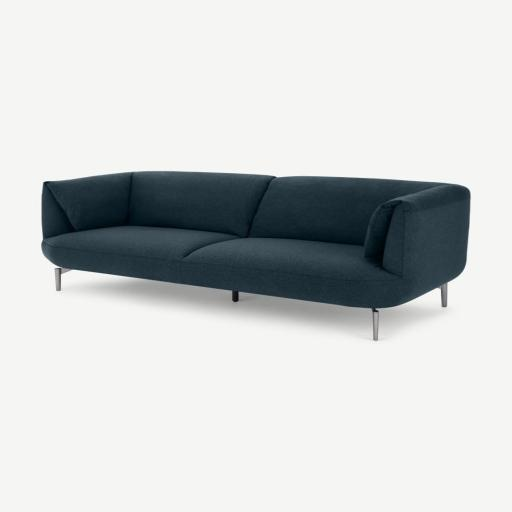back_cushion: (129, 172, 440, 245)
left_arm: (371, 185, 470, 307)
legs: (54, 267, 71, 290), (372, 308, 379, 340), (440, 284, 447, 306), (232, 291, 238, 302)
right_arm: (42, 182, 75, 238)
seat_cushion: (42, 226, 442, 307)
two-seater: (0, 0, 511, 512)
